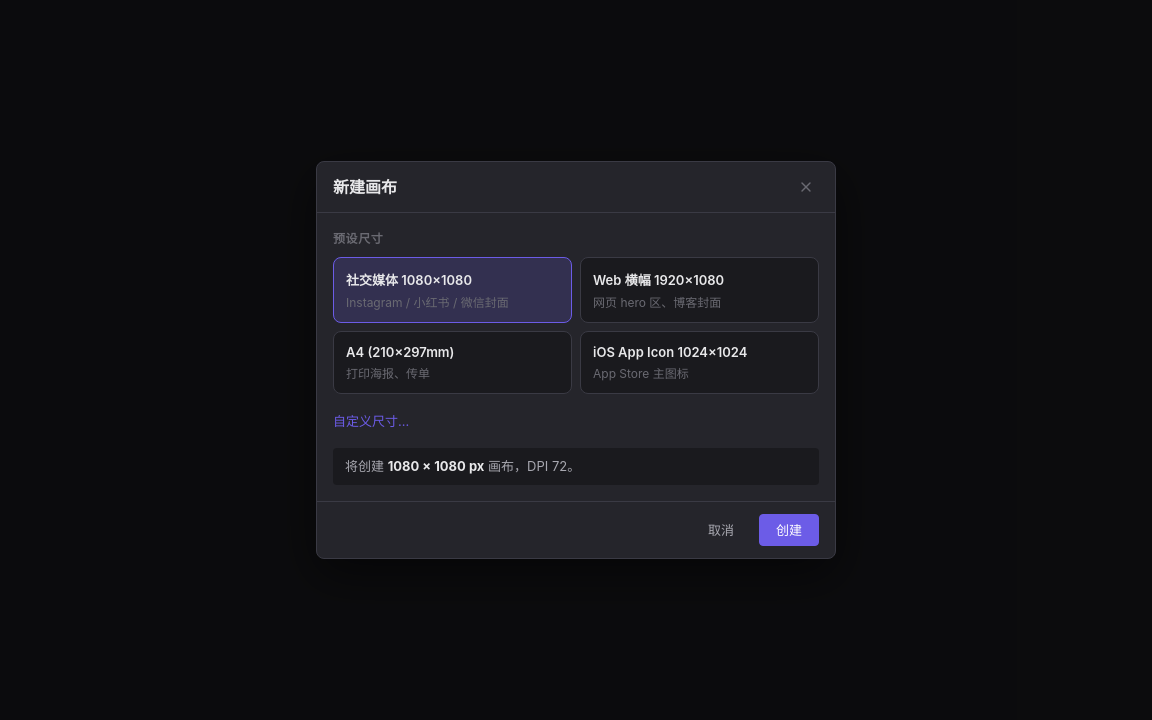
Test case: NewCanvasDialog › toggling custom mode reveals custom fields
Click the button with class "new-canvas__custom-toggle" at point(371, 420), box [333,410,409,430]
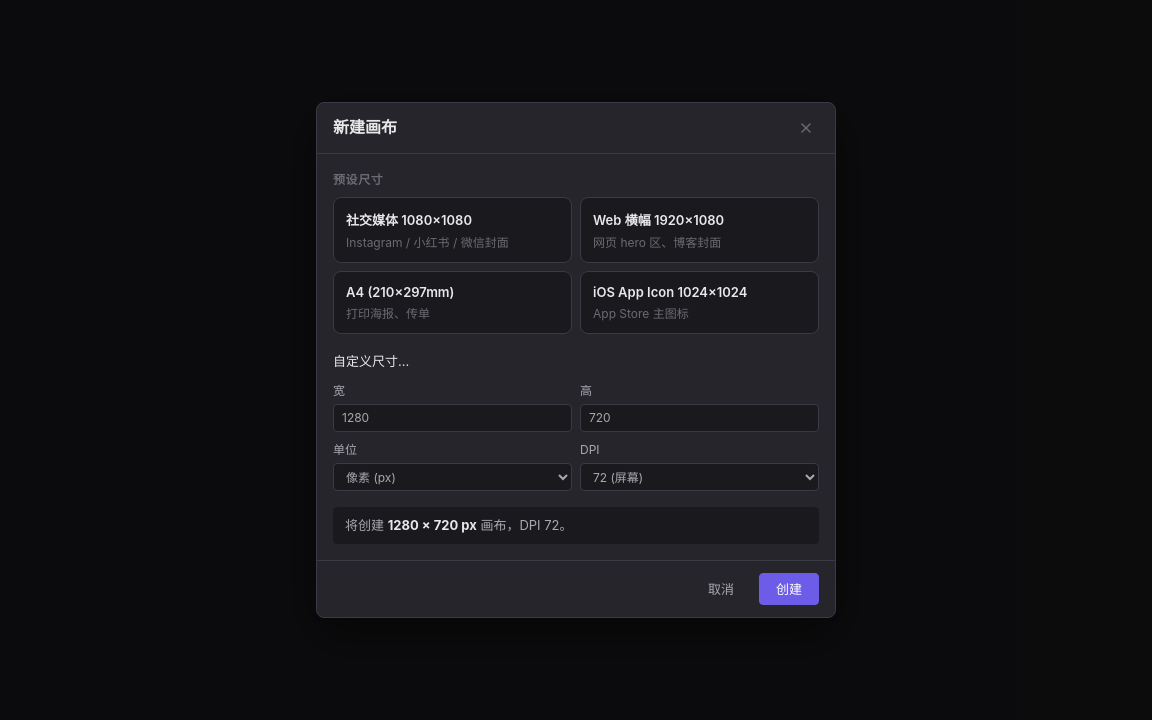
Result: the element with class "new-canvas__custom" is shown at [333,381,819,491]
